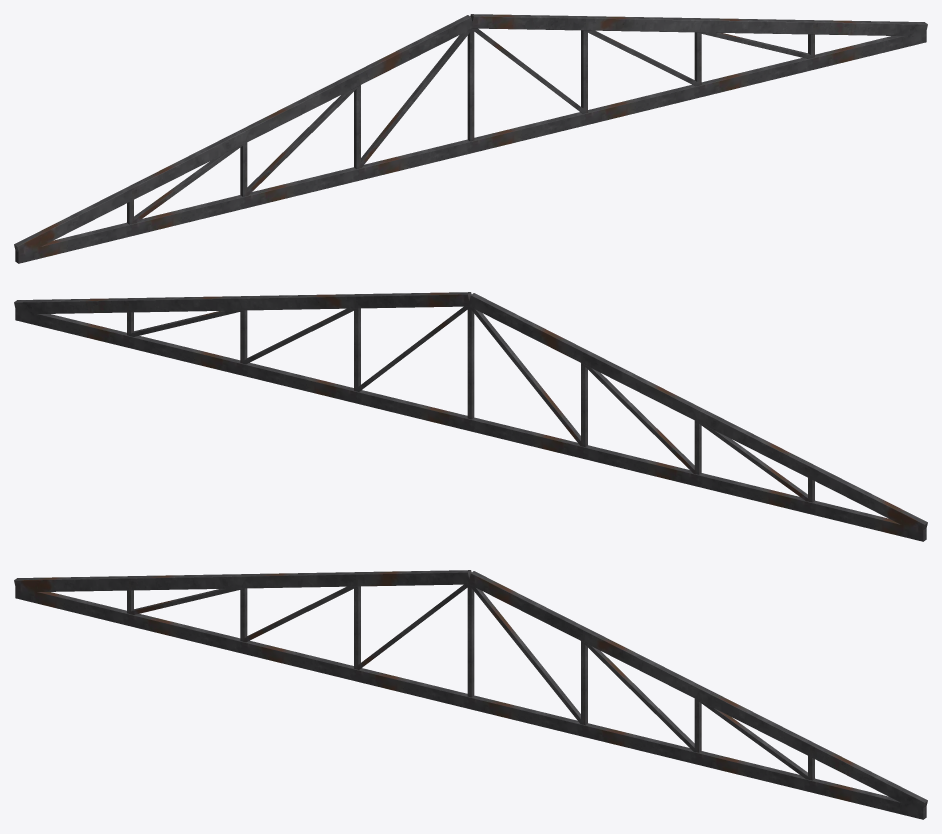
The model's file is COB-MET-001_lod1.glb.
3 views of the same model, one above another, from view 1: azimuth 30°, elevation 25°; view 2: azimuth 150°, elevation 25°; view 3: azimuth 330°, elevation 25° (orthographic).
Visible parts, largest first — view 1: COB-MET-001_banzo_inf, COB-MET-001_banzo_sup-1, COB-MET-001_banzo_sup1, COB-MET-001_diag3, COB-MET-001_diag2, COB-MET-001_mont4, COB-MET-001_diag1, COB-MET-001_diag4, COB-MET-001_diag5, COB-MET-001_diag6, COB-MET-001_mont5, COB-MET-001_mont3; view 2: COB-MET-001_banzo_inf, COB-MET-001_banzo_sup-1, COB-MET-001_banzo_sup1, COB-MET-001_diag3, COB-MET-001_diag2, COB-MET-001_mont4, COB-MET-001_diag1, COB-MET-001_diag4, COB-MET-001_diag5, COB-MET-001_diag6, COB-MET-001_mont5, COB-MET-001_mont3; view 3: COB-MET-001_banzo_inf, COB-MET-001_banzo_sup1, COB-MET-001_banzo_sup-1, COB-MET-001_diag4, COB-MET-001_diag5, COB-MET-001_mont4, COB-MET-001_diag6, COB-MET-001_diag3, COB-MET-001_diag2, COB-MET-001_diag1, COB-MET-001_mont3, COB-MET-001_mont5.
Boxes of the visible parts, left/top/right/bottom form: COB-MET-001_banzo_inf: left=15, top=31, right=926, bottom=263; COB-MET-001_banzo_sup-1: left=14, top=15, right=473, bottom=256; COB-MET-001_banzo_sup1: left=470, top=14, right=927, bottom=36; COB-MET-001_diag3: left=359, top=30, right=470, bottom=168; COB-MET-001_diag2: left=246, top=87, right=356, bottom=196; COB-MET-001_mont4: left=467, top=28, right=474, bottom=141; COB-MET-001_diag1: left=131, top=143, right=245, bottom=223; COB-MET-001_diag4: left=474, top=28, right=583, bottom=113; COB-MET-001_diag5: left=588, top=30, right=698, bottom=86; COB-MET-001_diag6: left=699, top=32, right=813, bottom=58; COB-MET-001_mont5: left=581, top=30, right=587, bottom=113; COB-MET-001_mont3: left=354, top=85, right=360, bottom=169; COB-MET-001_banzo_inf: left=15, top=309, right=926, bottom=541; COB-MET-001_banzo_sup-1: left=469, top=293, right=927, bottom=534; COB-MET-001_banzo_sup1: left=14, top=292, right=471, bottom=314; COB-MET-001_diag3: left=470, top=307, right=582, bottom=446; COB-MET-001_diag2: left=583, top=364, right=697, bottom=474; COB-MET-001_mont4: left=467, top=307, right=474, bottom=419; COB-MET-001_diag1: left=699, top=423, right=810, bottom=501; COB-MET-001_diag4: left=356, top=306, right=469, bottom=391; COB-MET-001_diag5: left=242, top=308, right=356, bottom=364; COB-MET-001_diag6: left=128, top=310, right=242, bottom=336; COB-MET-001_mont5: left=354, top=308, right=360, bottom=391; COB-MET-001_mont3: left=581, top=363, right=587, bottom=446; COB-MET-001_banzo_inf: left=15, top=587, right=926, bottom=819; COB-MET-001_banzo_sup1: left=469, top=571, right=927, bottom=812; COB-MET-001_banzo_sup-1: left=14, top=570, right=471, bottom=592; COB-MET-001_diag4: left=471, top=586, right=582, bottom=724; COB-MET-001_diag5: left=585, top=643, right=695, bottom=752; COB-MET-001_mont4: left=467, top=584, right=474, bottom=697; COB-MET-001_diag6: left=696, top=699, right=810, bottom=779; COB-MET-001_diag3: left=358, top=584, right=467, bottom=669; COB-MET-001_diag2: left=243, top=586, right=353, bottom=642; COB-MET-001_diag1: left=128, top=588, right=242, bottom=614; COB-MET-001_mont3: left=354, top=586, right=360, bottom=669; COB-MET-001_mont5: left=581, top=641, right=587, bottom=725.
Bounding box in the file's own units: 8.02 × 1.15 × 0.0501.
1 material, 1 textured.
